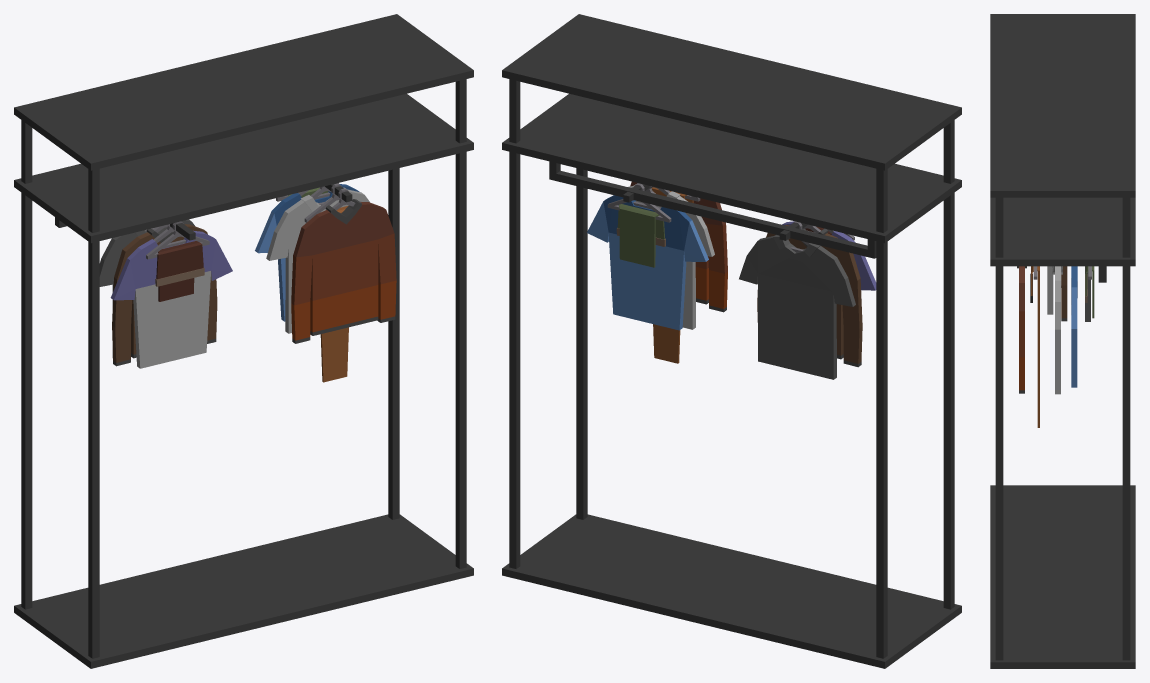
The model's file is SM_Props_Rack_06.fbx.
The picture shows the model from 3 angles, left to right: view 1: azimuth 30°, elevation 25°; view 2: azimuth 150°, elevation 25°; view 3: azimuth 270°, elevation 25°; orthographic projection. The views are drawn at different scales.
Parts seen in each view (by area): view 1: SM_Props_Rack_06; view 2: SM_Props_Rack_06; view 3: SM_Props_Rack_06.
Boxes of the visible parts, x1=… form: SM_Props_Rack_06: x1=14, y1=14, x2=473, y2=668; SM_Props_Rack_06: x1=502, y1=14, x2=961, y2=668; SM_Props_Rack_06: x1=990, y1=14, x2=1135, y2=668.
Size of the model in its own units: 2 by 2.52 by 0.6949.
